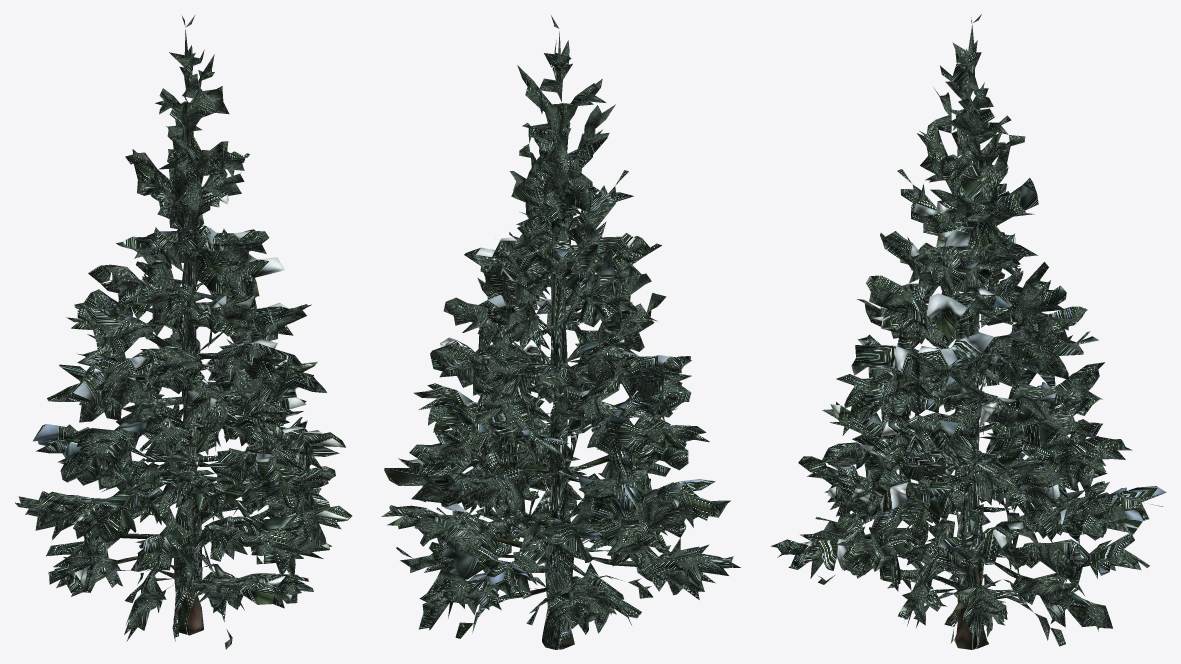
File: pine-mid.glb
The picture shows the model from 3 angles, left to right: view 1: azimuth 30°, elevation 25°; view 2: azimuth 150°, elevation 25°; view 3: azimuth 270°, elevation 25°; orthographic projection. The views are drawn at different scales.
Bounding box in the file's own units: 0.5352 × 0.9976 × 0.5677.
1 material, 1 textured.
